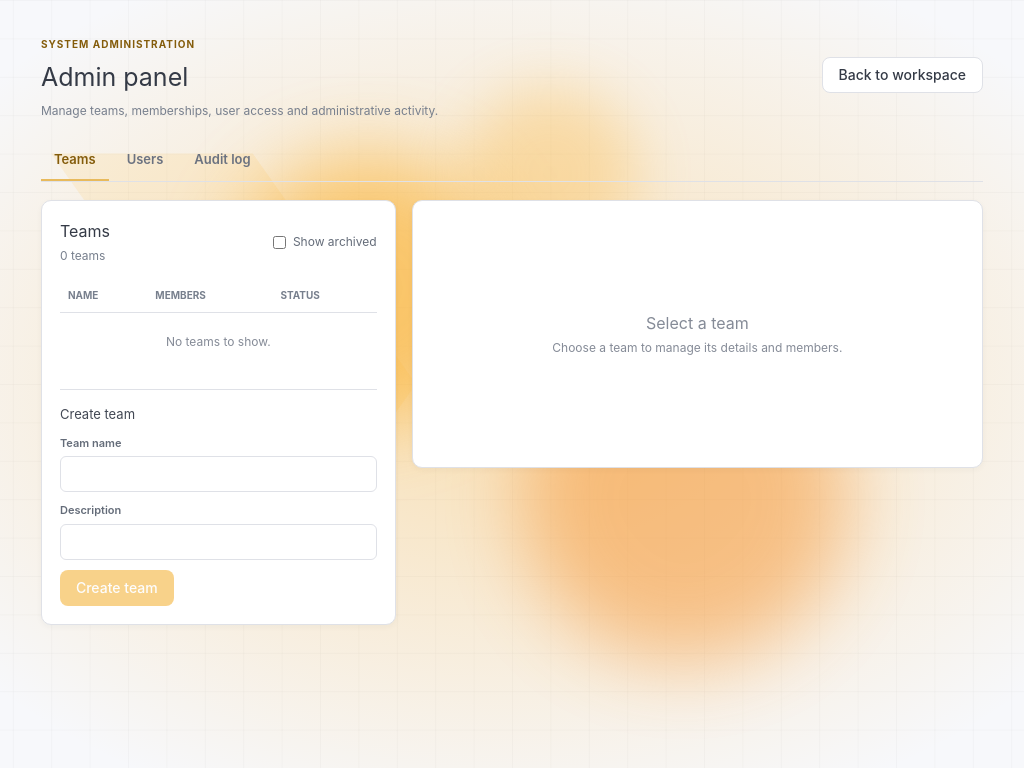
Test: AdminPanel › shows a friendly message when deletion fails with CANNOT_DELETE_SELF
Click the button "Users": click(145, 160) [114,140,176,181]
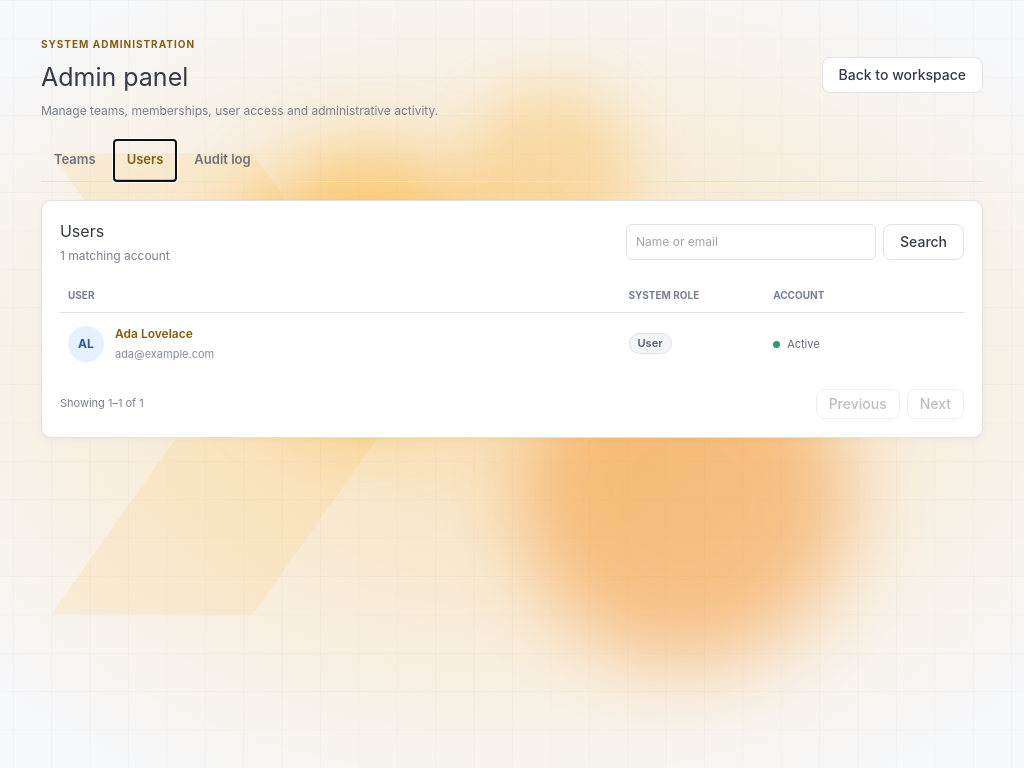
Click the button with aria-label "Manage Ada Lovelace": click(154, 334) [115,325,193,343]
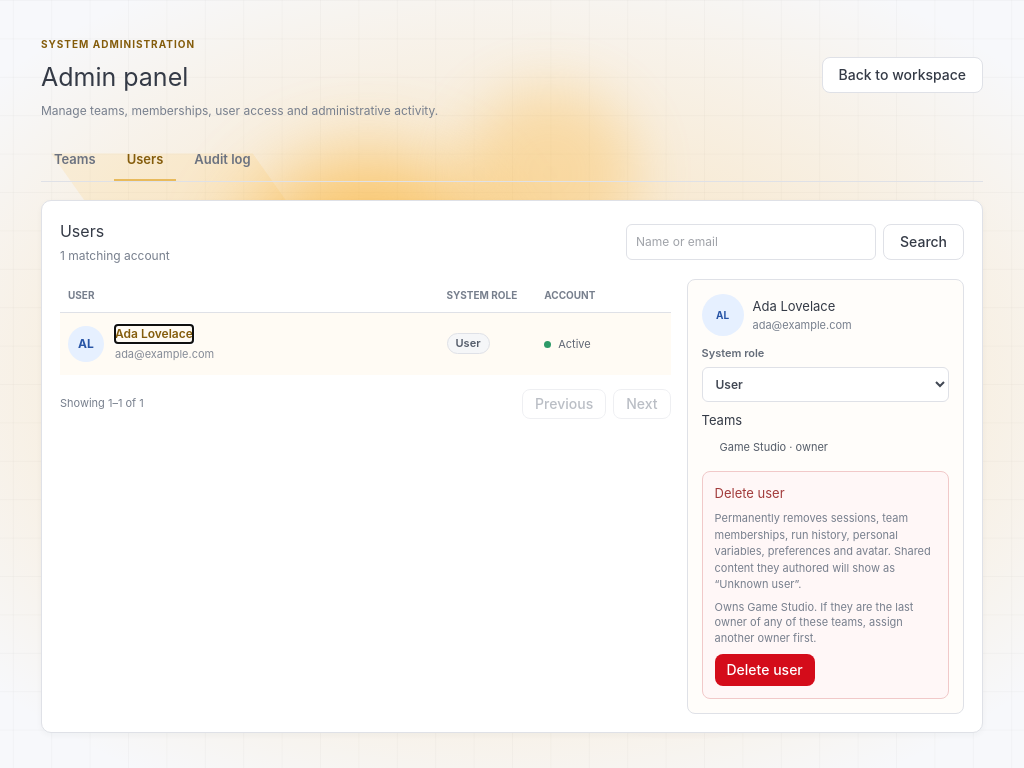
Click the button "Delete user": click(765, 670) [714,654,815,686]
(page scrolled)
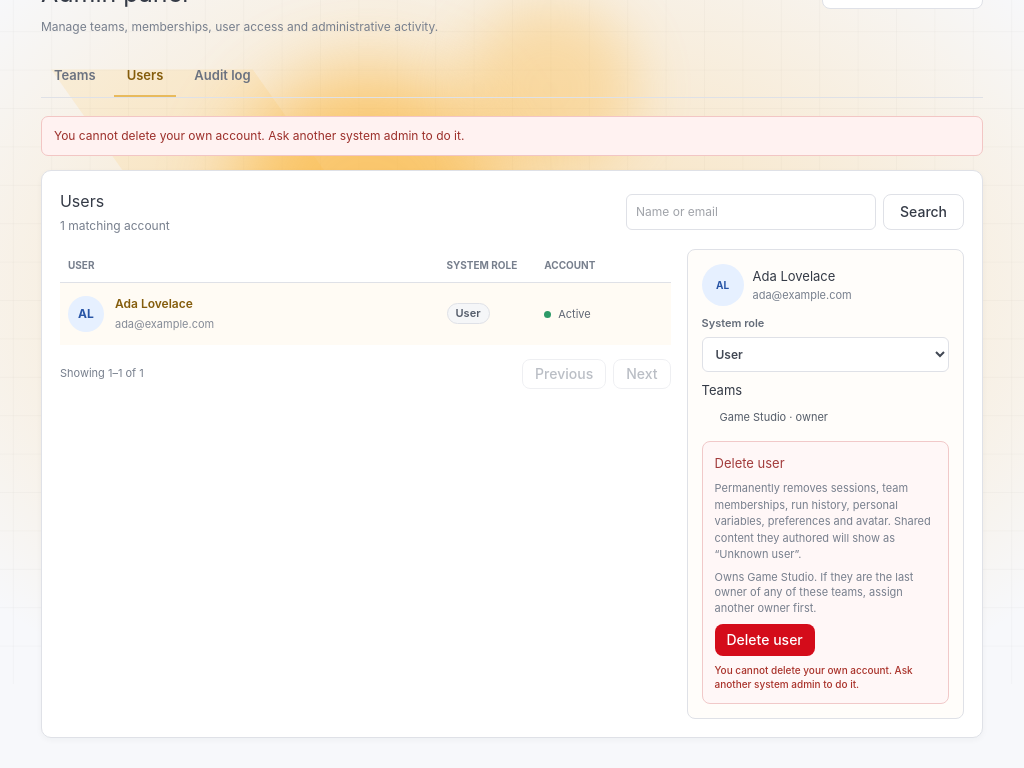
Expected: the element with class "admin-user-detail" is shown, [686,249,964,719]
Expected: the text "You cannot delete your own account. Ask another system admin to do it." below "Owns" is shown, [714,664,913,690]
